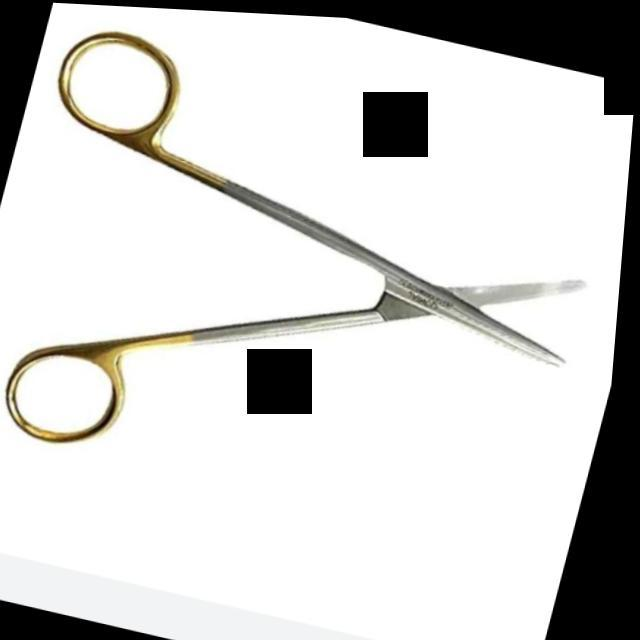Metzenbaum Sciccors: (0, 7, 640, 553)
